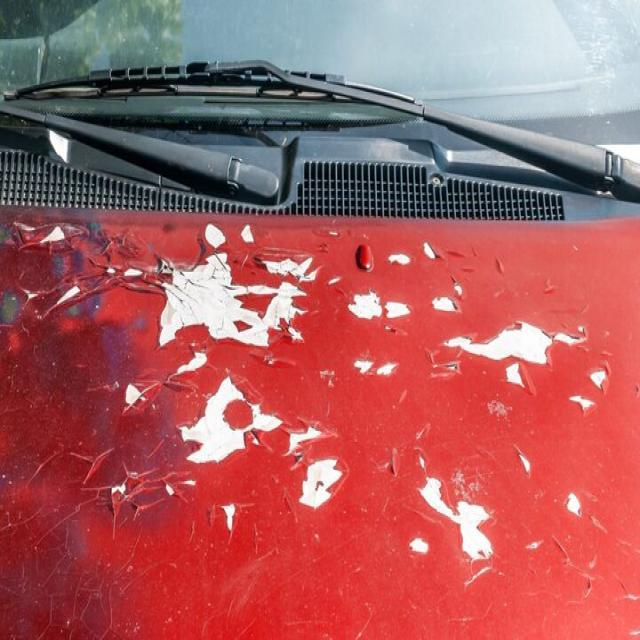paint-chip: (0, 371, 360, 566), (342, 230, 626, 427), (0, 213, 329, 374), (360, 434, 636, 611)
